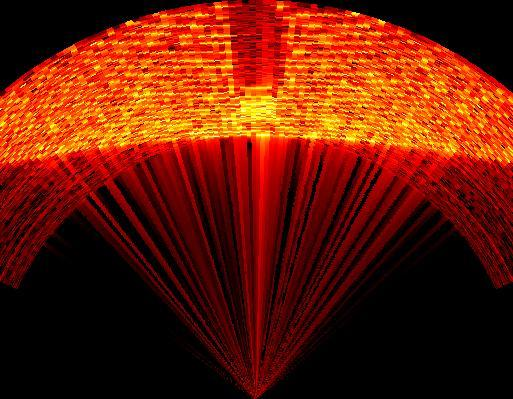box_crate: (228, 2, 290, 90)
